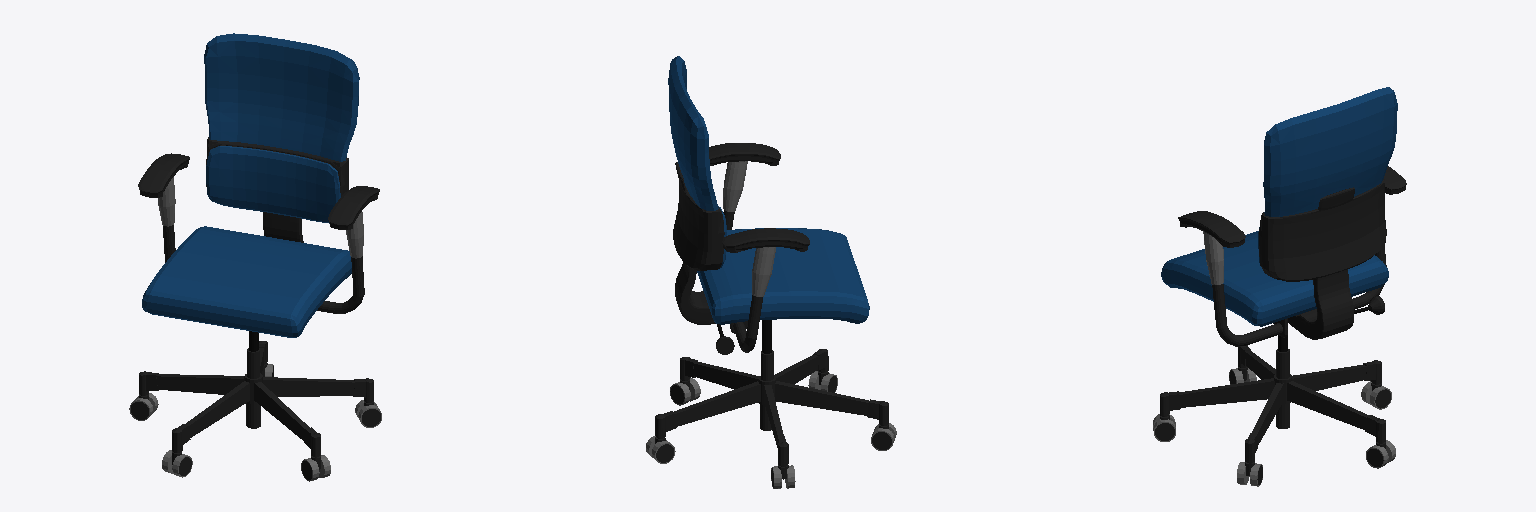
Rendered from office_chair.obj.
3 views of the same model, side by side, from view 1: azimuth 30°, elevation 25°; view 2: azimuth 150°, elevation 25°; view 3: azimuth 270°, elevation 25° (orthographic).
Visible parts, largest first — view 1: sillaOfi_respaldo.001_Cube.006, sillaOfi_ruedas.001_Cube.010, sillaOfi_soporte.001_Cube.011; view 2: sillaOfi_respaldo.001_Cube.006, sillaOfi_ruedas.001_Cube.010, sillaOfi_soporte.001_Cube.011; view 3: sillaOfi_respaldo.001_Cube.006, sillaOfi_ruedas.001_Cube.010, sillaOfi_soporte.001_Cube.011.
Boxes of the visible parts, x1=… form: sillaOfi_respaldo.001_Cube.006: x1=138, y1=33, x2=379, y2=337; sillaOfi_ruedas.001_Cube.010: x1=129, y1=341, x2=381, y2=481; sillaOfi_soporte.001_Cube.011: x1=158, y1=177, x2=364, y2=428; sillaOfi_respaldo.001_Cube.006: x1=668, y1=56, x2=869, y2=333; sillaOfi_ruedas.001_Cube.010: x1=646, y1=349, x2=896, y2=488; sillaOfi_soporte.001_Cube.011: x1=713, y1=161, x2=775, y2=430; sillaOfi_respaldo.001_Cube.006: x1=1161, y1=87, x2=1406, y2=339; sillaOfi_ruedas.001_Cube.010: x1=1153, y1=345, x2=1395, y2=486; sillaOfi_soporte.001_Cube.011: x1=1203, y1=231, x2=1386, y2=428.
Size of the model in its own units: 0.7587 by 1.19 by 0.7609.